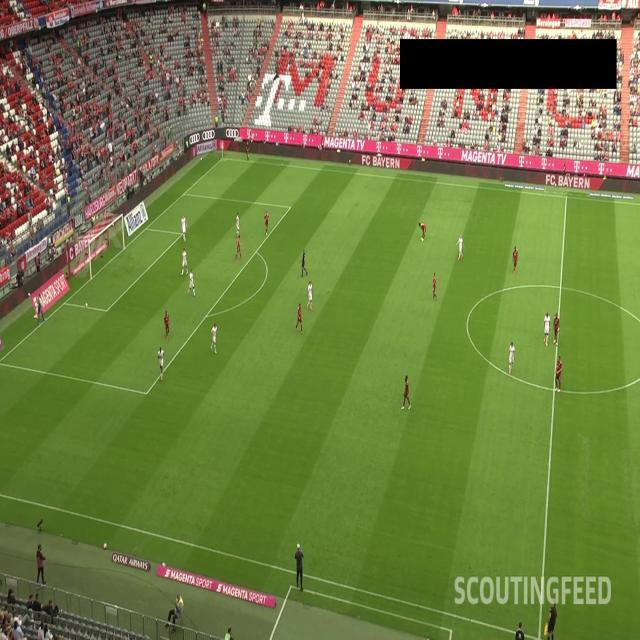ball: (84, 300, 89, 310)
player: (399, 371, 412, 412), (35, 291, 48, 327), (155, 344, 166, 382), (553, 352, 562, 395), (506, 340, 516, 378), (552, 308, 561, 346), (294, 301, 304, 335), (455, 232, 466, 262), (187, 267, 197, 299), (417, 215, 427, 244), (163, 307, 171, 343), (209, 321, 218, 353), (306, 278, 314, 313), (543, 307, 550, 347), (180, 213, 189, 243), (234, 232, 243, 262), (511, 242, 519, 275), (181, 246, 189, 277), (431, 268, 438, 302), (263, 207, 269, 238), (236, 210, 241, 240)
referee: (543, 593, 558, 640), (299, 244, 309, 278), (244, 138, 252, 163)
